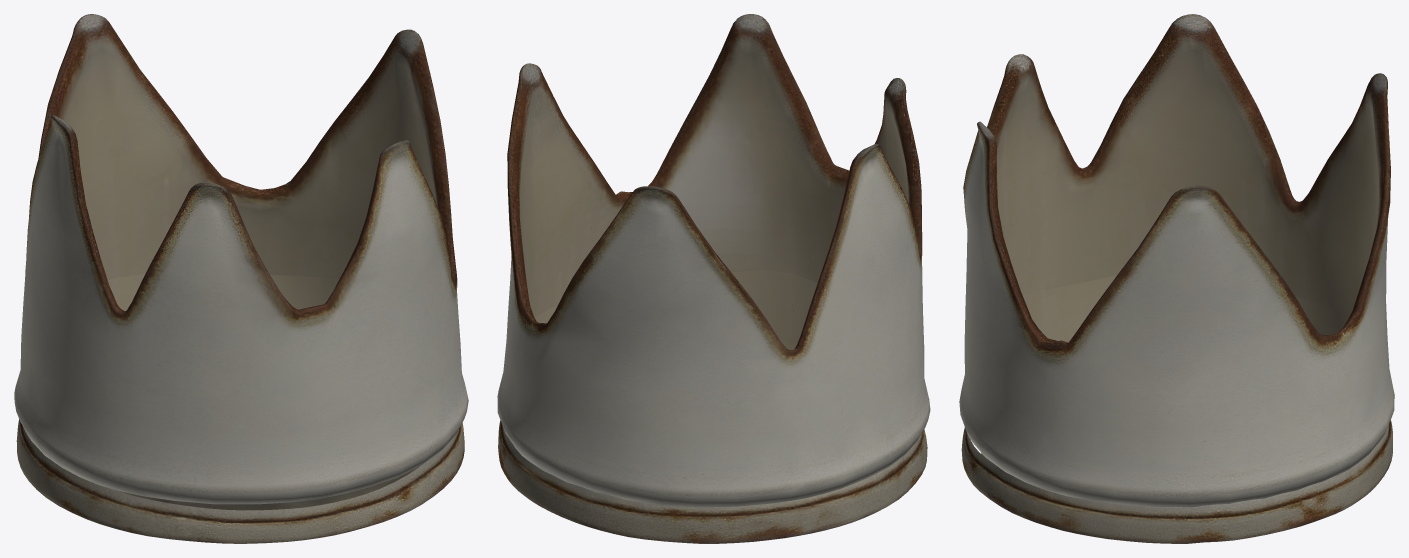
Rendered from alley-crown.glb.
3 renders of one model, left to right at view 1: azimuth 30°, elevation 25°; view 2: azimuth 150°, elevation 25°; view 3: azimuth 270°, elevation 25°, orthographic. The views are drawn at different scales.
Visible parts, largest first — view 1: tripo_node_7ef62c71-e3f1-4833-83fd-16e17b8539e1; view 2: tripo_node_7ef62c71-e3f1-4833-83fd-16e17b8539e1; view 3: tripo_node_7ef62c71-e3f1-4833-83fd-16e17b8539e1.
Boxes of the visible parts, bbox=[...] form: tripo_node_7ef62c71-e3f1-4833-83fd-16e17b8539e1: bbox=[14, 14, 468, 543]; tripo_node_7ef62c71-e3f1-4833-83fd-16e17b8539e1: bbox=[497, 14, 930, 543]; tripo_node_7ef62c71-e3f1-4833-83fd-16e17b8539e1: bbox=[959, 14, 1394, 543].
Size of the model in its own units: 0.9953 by 0.9028 by 0.9925.
1 material, 1 textured.
